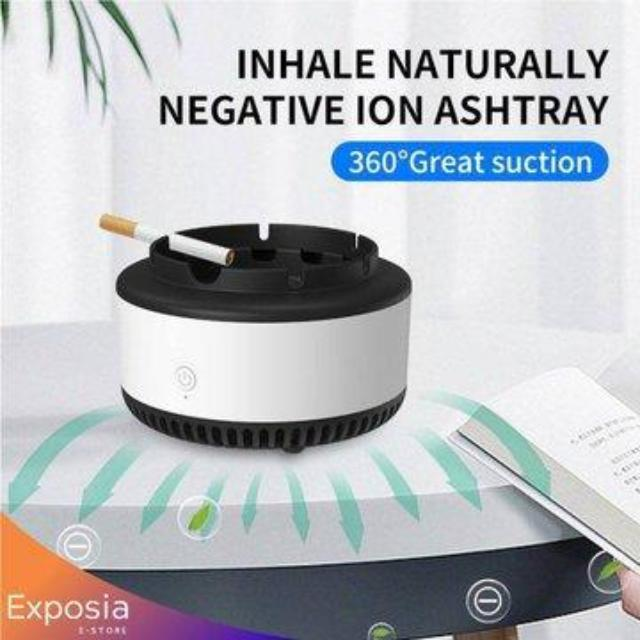rokok: (90, 211, 238, 271)
